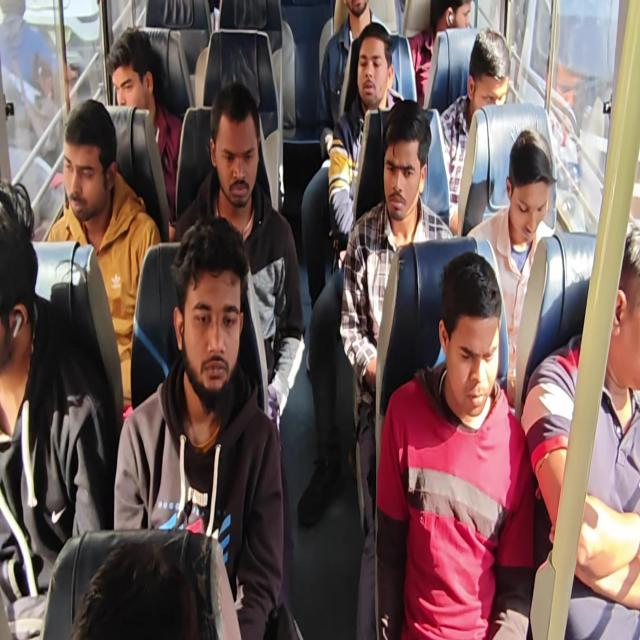person: (1, 2, 638, 638), (112, 214, 286, 638), (339, 98, 455, 638), (375, 250, 535, 638), (297, 21, 405, 528), (0, 209, 118, 638), (170, 81, 306, 437), (520, 222, 640, 612), (44, 98, 161, 418), (300, 1, 390, 309), (466, 128, 556, 407), (70, 528, 242, 639), (327, 22, 405, 238), (105, 27, 183, 225), (438, 27, 511, 234), (0, 0, 76, 166), (317, 0, 389, 159), (408, 0, 472, 108)
